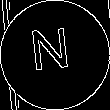N_S: (32, 28, 78, 82)
